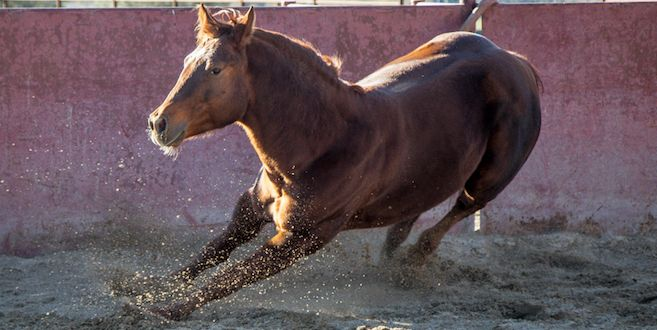Horse: (136, 6, 555, 284)
